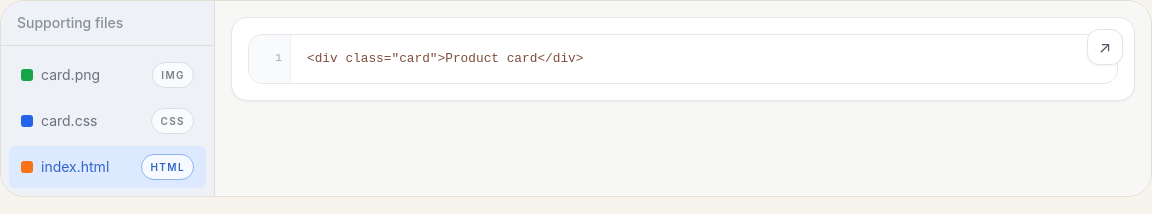
Test: ExamQuestionMockup › shows the preview when a non-code file is clicked
Click the button "card.png IMG". click: (108, 75)
box: [9,54,206,96]
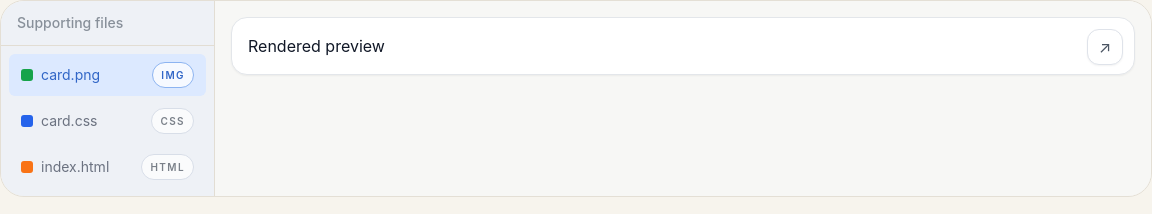
Now the text "Rendered preview" is shown, box [248,36,385,56]
